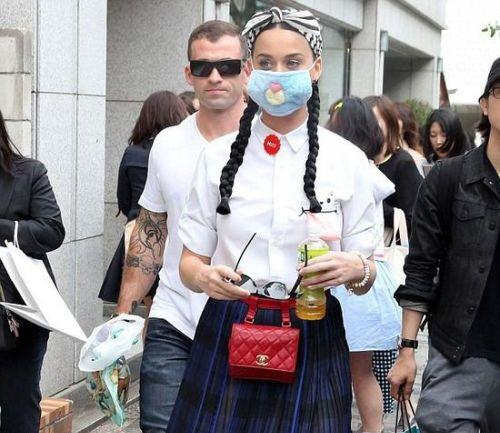NONE: (191, 51, 243, 107), (428, 130, 453, 158)
OK: (253, 48, 314, 110)
